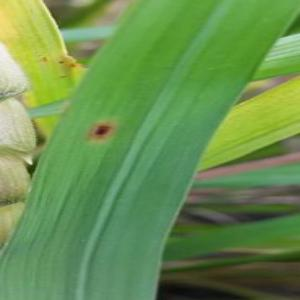Brown_Spot: (82, 110, 122, 150), (37, 53, 50, 65), (65, 60, 79, 70), (57, 72, 71, 81), (55, 57, 67, 67)
